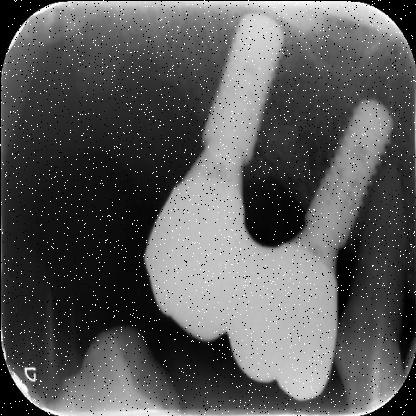ITI: (186, 8, 296, 166), (298, 92, 402, 248)
